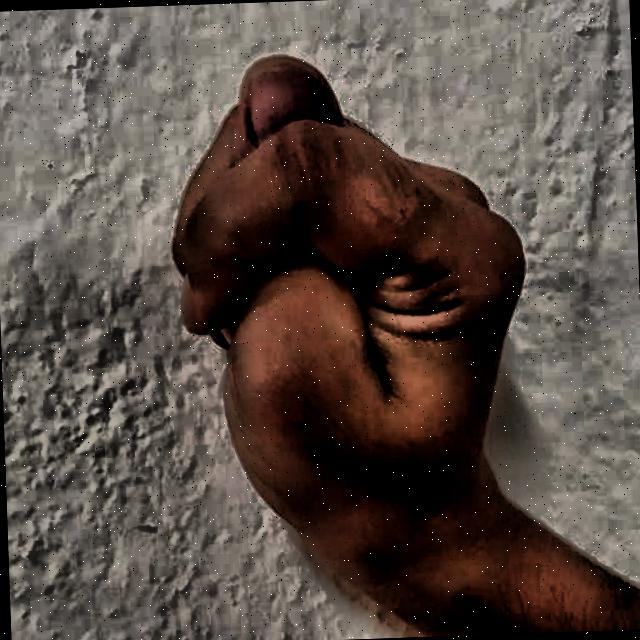Ta: (117, 14, 597, 640)
